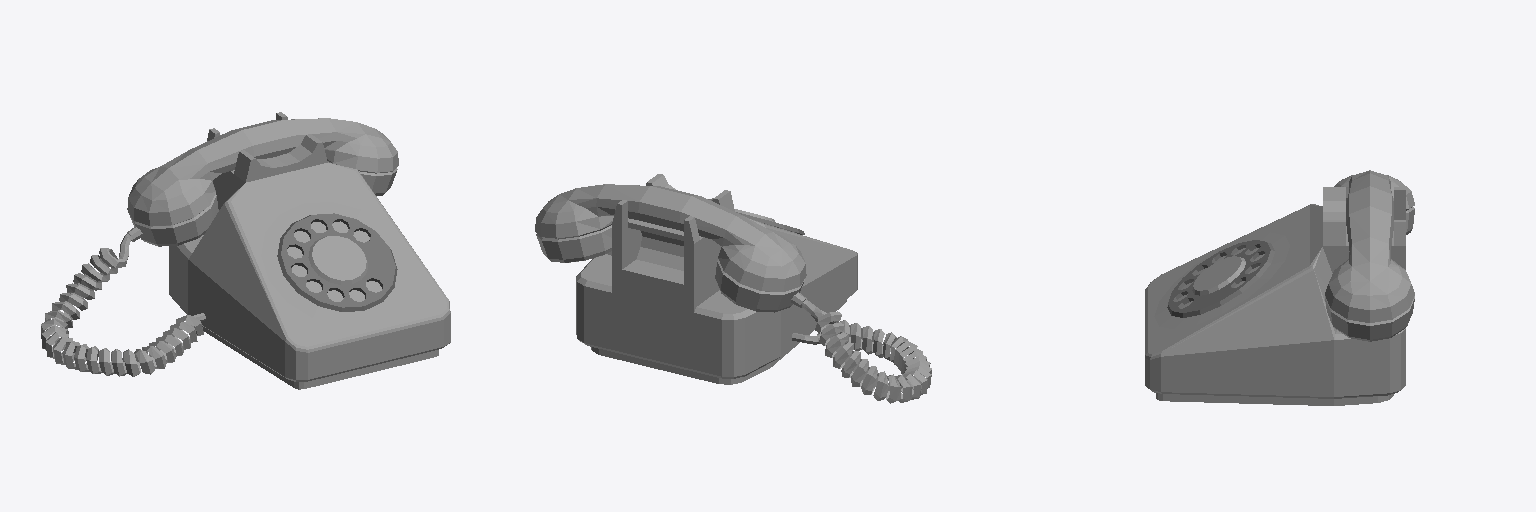
Rendered from Telephone.obj.
The picture shows the model from 3 angles: view 1: azimuth 30°, elevation 25°; view 2: azimuth 150°, elevation 25°; view 3: azimuth 270°, elevation 25°; orthographic projection.
Parts seen in each view (by area): view 1: sfmtelephone001rotary_telephone001_reference; view 2: sfmtelephone001rotary_telephone001_reference; view 3: sfmtelephone001rotary_telephone001_reference.
Boxes of the visible parts, box(x1,y1,x2,y2) form: sfmtelephone001rotary_telephone001_reference: box(41, 112, 450, 389); sfmtelephone001rotary_telephone001_reference: box(535, 174, 931, 403); sfmtelephone001rotary_telephone001_reference: box(1145, 170, 1414, 405).
Size of the model in its own units: 22.09 by 9.92 by 14.27.